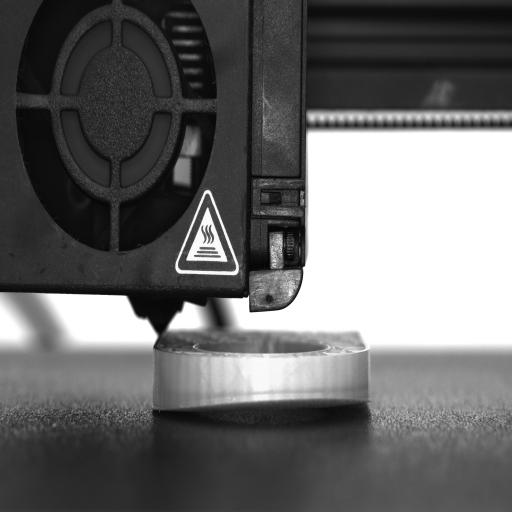warp: (152, 388, 370, 423)
